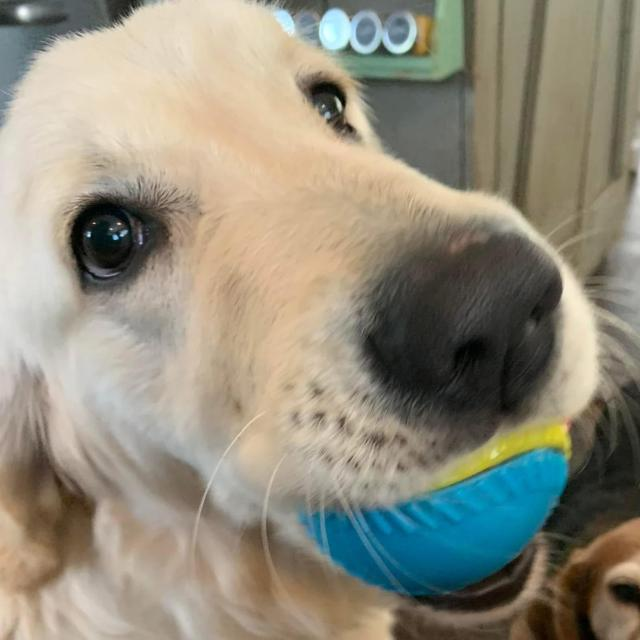golden_retriever_dog: (0, 2, 607, 620)
